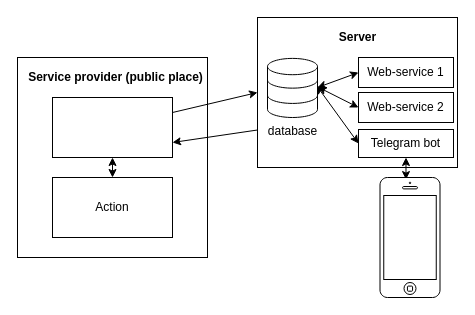
Some shapes in this 475 by 315 pixel diagram are drawn without their labels. The shapes that lost their labels are listed below. From the top down, each one's centre as x and y in pixels, then its label:
the point at 112,127: Сash register software interface
the point at 409,237: Client
